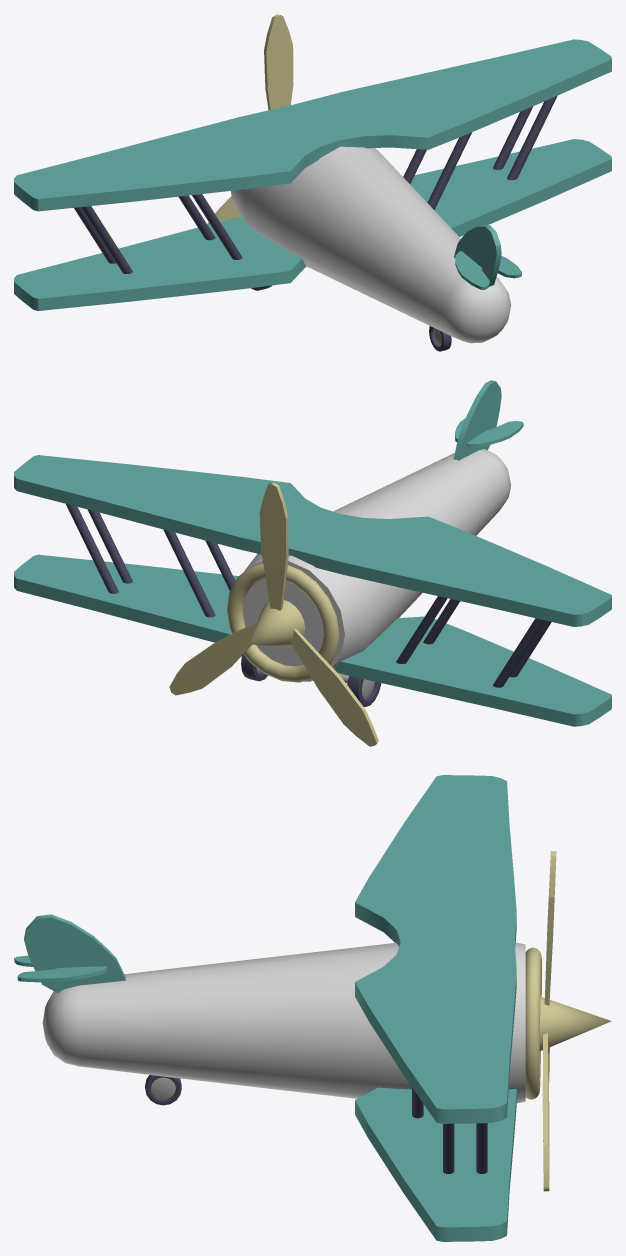
The model's file is StaticParts.fbx.
3 views of the same model, one above another, from view 1: azimuth 30°, elevation 25°; view 2: azimuth 150°, elevation 25°; view 3: azimuth 270°, elevation 25° (orthographic). The views are drawn at different scales.
Parts seen in each view (by area): view 1: SM_Wings, SM_Cockpit, SM_Propeller, SM_BackWing; view 2: SM_Wings, SM_Cockpit, SM_Propeller, SM_BackWing, SM_Tires; view 3: SM_Wings, SM_Cockpit, SM_Propeller, SM_BackWing.
Boxes of the visible parts, box(x1,y1,x2,y2) form: SM_Wings: box(14, 39, 611, 310); SM_Cockpit: box(231, 146, 511, 351); SM_Propeller: box(207, 14, 293, 224); SM_BackWing: box(454, 225, 521, 289); SM_Wings: box(14, 455, 611, 726); SM_Cockpit: box(243, 449, 511, 681); SM_Propeller: box(169, 482, 378, 746); SM_BackWing: box(453, 380, 523, 460); SM_Tires: box(241, 654, 381, 706); SM_Wings: box(355, 775, 516, 1241); SM_Cockpit: box(42, 942, 525, 1105); SM_Propeller: box(525, 851, 611, 1191); SM_BackWing: box(14, 914, 125, 992).
Size of the model in its own units: 726 by 290 by 549.
